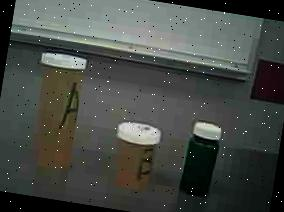Bottle A: (16, 45, 105, 180)
Bottle B: (102, 113, 169, 198)
Bottle C: (172, 114, 235, 209)
